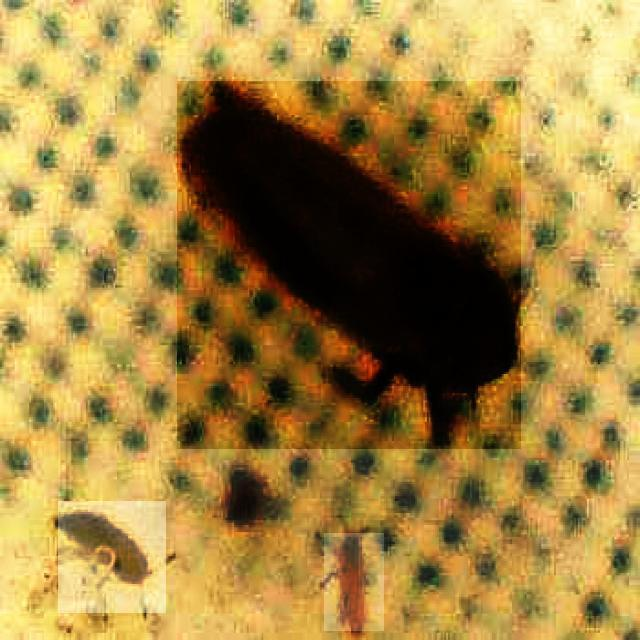green-leafhopper: (178, 82, 521, 449), (58, 502, 166, 614), (324, 533, 384, 631)
